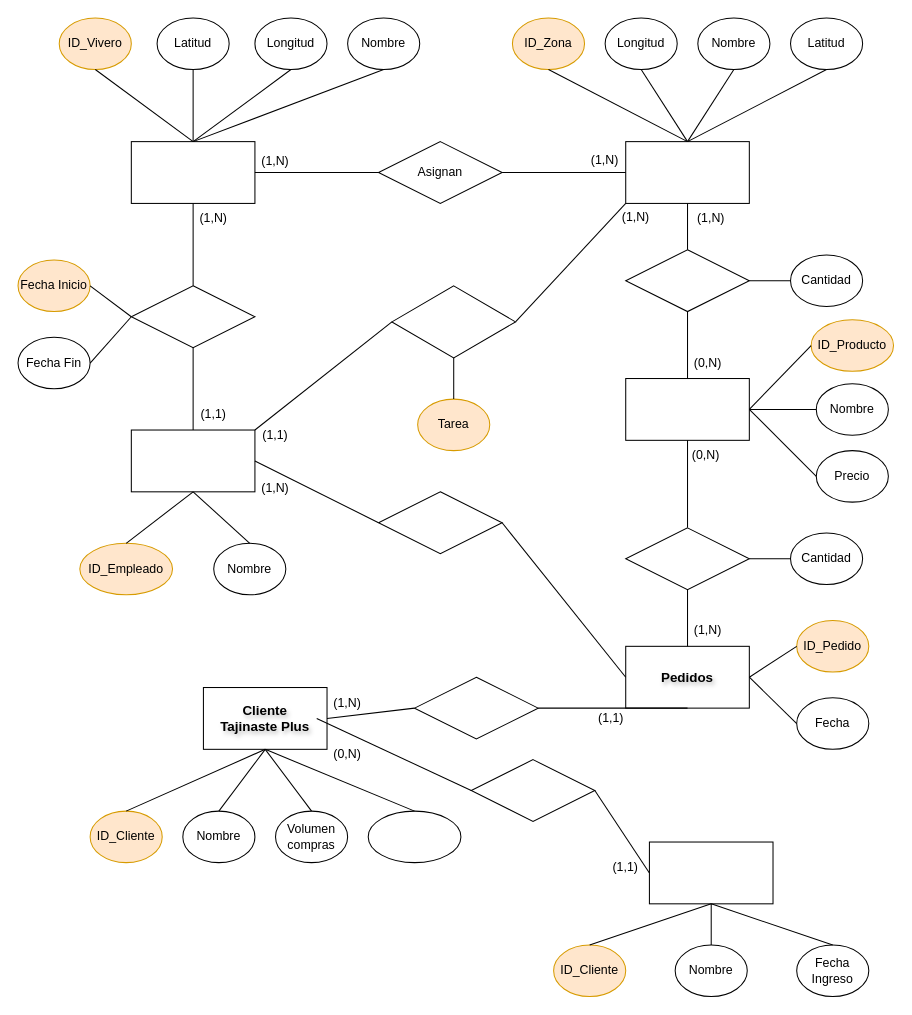
This 912x1015 diagram has some shape labels left out. The centre of each missing label's shape, as x and y in pixels:
"Bonificaciones" belongs at (414,836).
"Bonificaiones" belongs at (710,872).
"Contiene" belongs at (687,558).
"Desempeña" belongs at (453,321).
"Destinado" belongs at (192,316).
"Empleados" belongs at (192,460).
"Gestiona" belongs at (439,522).
"Producto" belongs at (687,408).
"Realiza" belongs at (476,707).
"Recbe" belongs at (532,790).
"Stock" belongs at (687,280).
"Vivero" belongs at (192,172).
"Zona" belongs at (687,172).
